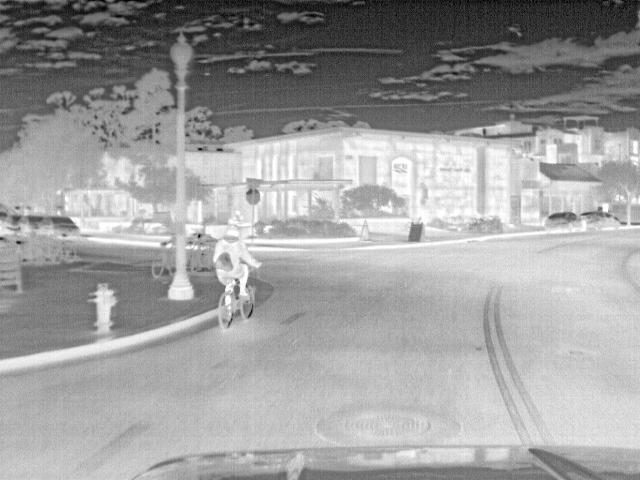car: (40, 215, 83, 240), (542, 212, 590, 232), (582, 211, 628, 231), (7, 214, 34, 232), (27, 215, 50, 234)
person: (210, 224, 262, 299)
